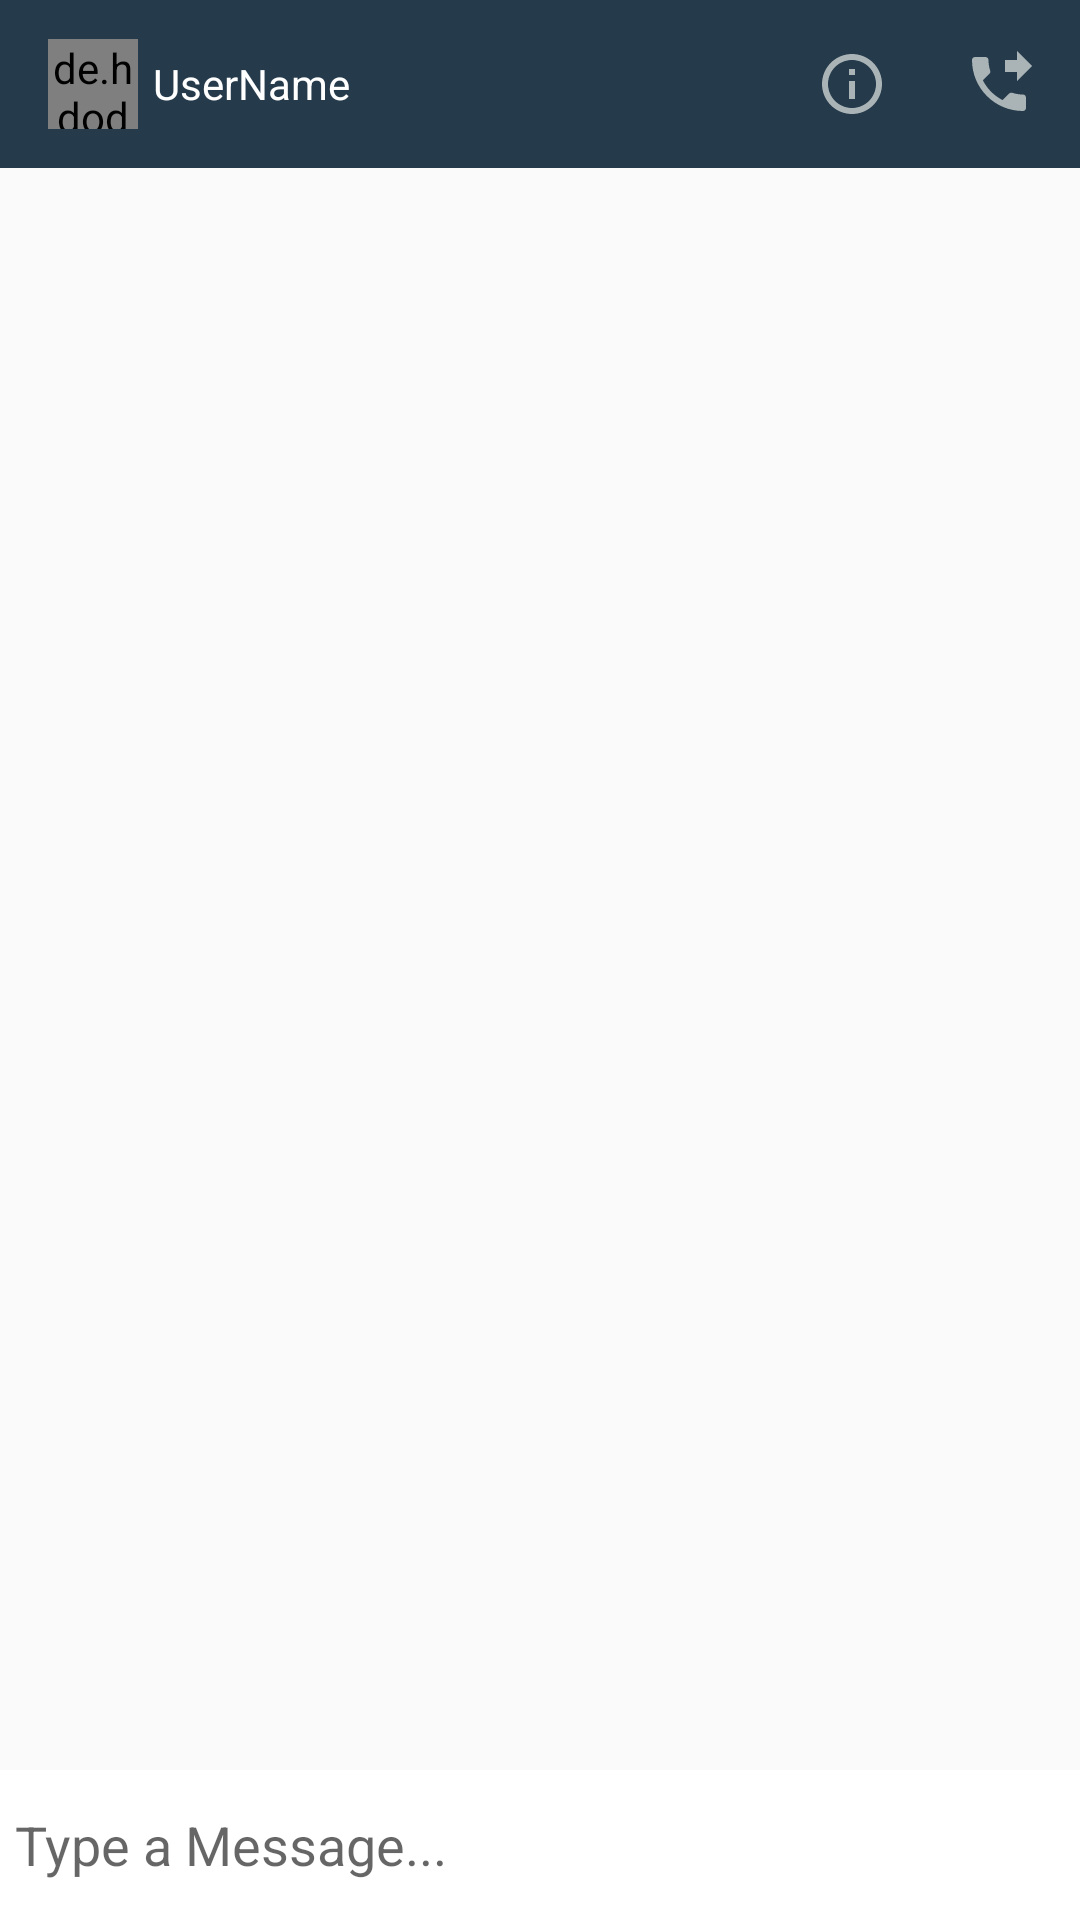

Icon bounding boxes for this 1080px x 1920px phone screenshot, format (left=x1, top=y1, right=x2, bottom=y2):
info: (left=822, top=54, right=882, bottom=114)
phone: (left=972, top=51, right=1032, bottom=111)
